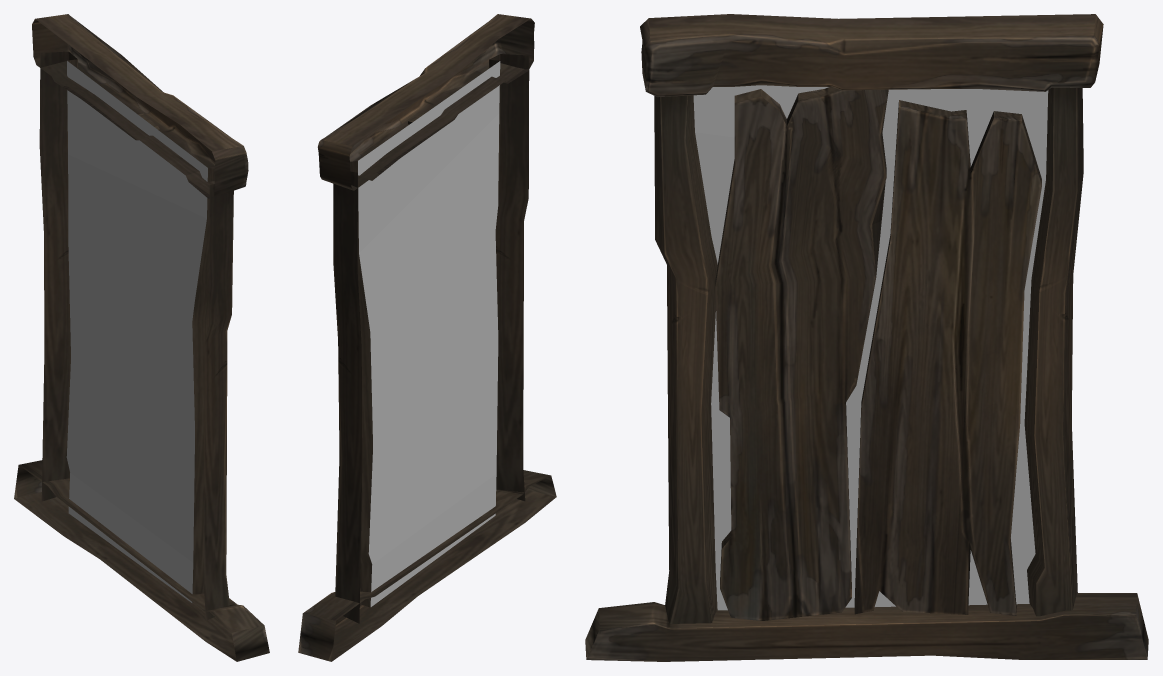
The model's file is lower_city_door_04.fbx.
3 renders of one model, left to right at view 1: azimuth 30°, elevation 25°; view 2: azimuth 150°, elevation 25°; view 3: azimuth 270°, elevation 25°, orthographic. The views are drawn at different scales.
Visible parts, largest first — view 1: lower_city_door_04; view 2: lower_city_door_04; view 3: lower_city_door_04.
Part boxes in pixels (bbox=[...]): lower_city_door_04: bbox=[14, 14, 269, 661]; lower_city_door_04: bbox=[298, 14, 556, 661]; lower_city_door_04: bbox=[585, 14, 1148, 661].
Size of the model in its own units: 0.1841 by 2.33 by 1.89.
